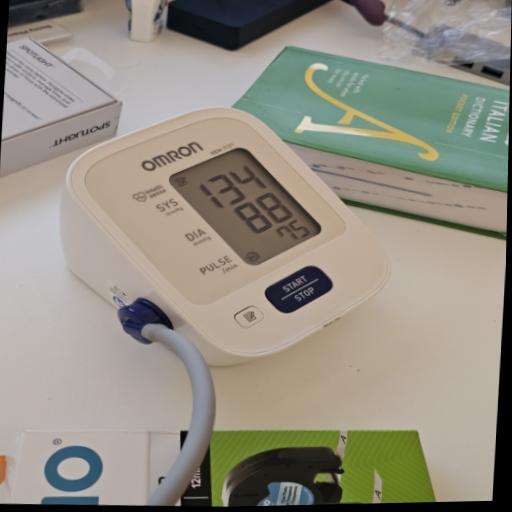lcd display: (162, 142, 327, 270)
